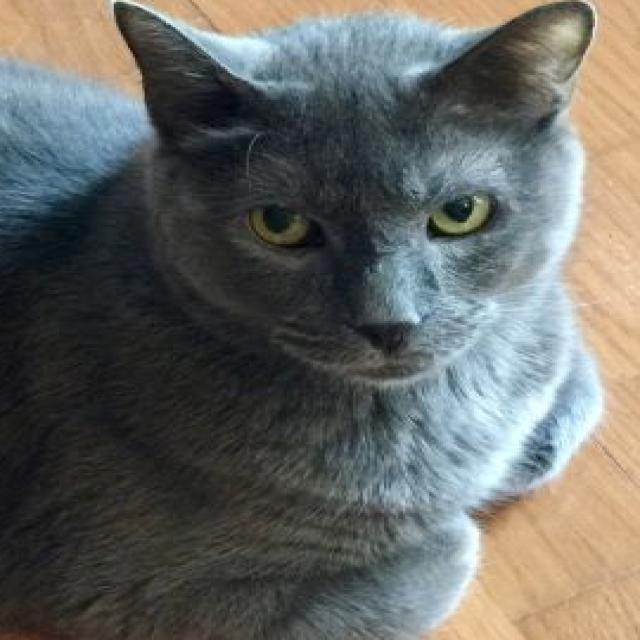Russian Blue: (0, 0, 607, 640)
